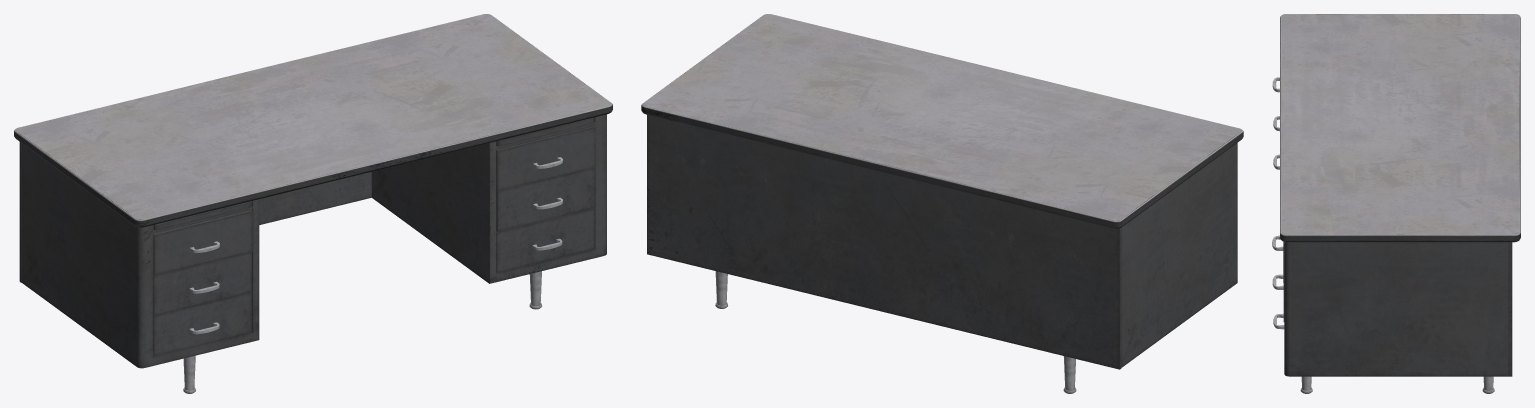
The model's file is OfficeDeskMetal.obj.
3 views of the same model, side by side, from view 1: azimuth 30°, elevation 25°; view 2: azimuth 150°, elevation 25°; view 3: azimuth 270°, elevation 25° (orthographic). The views are drawn at different scales.
Parts seen in each view (by area): view 1: Desk; view 2: Desk; view 3: Desk.
Part boxes in pixels (x1,y1,x2,y2): Desk: (14,14,612,393); Desk: (641,14,1243,393); Desk: (1272,14,1520,393).
Size of the model in its own units: 2 by 0.7875 by 0.9472.
Materials: 1 (1 with a texture image).
